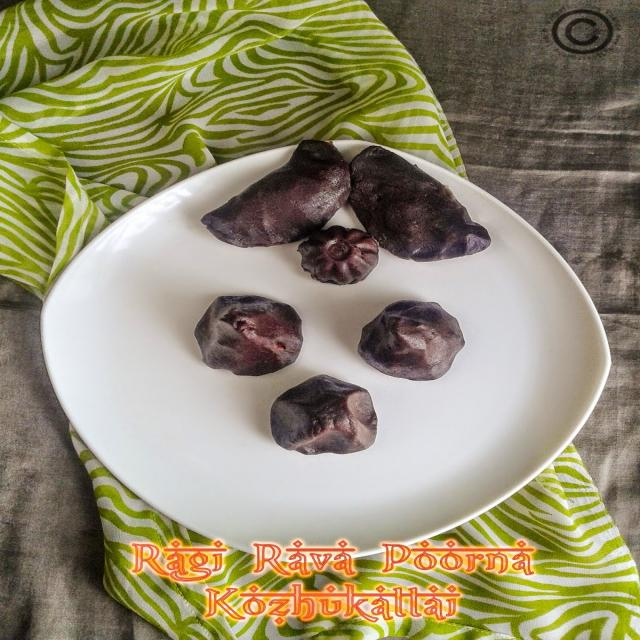poorna kolukattai: (173, 132, 510, 493)
